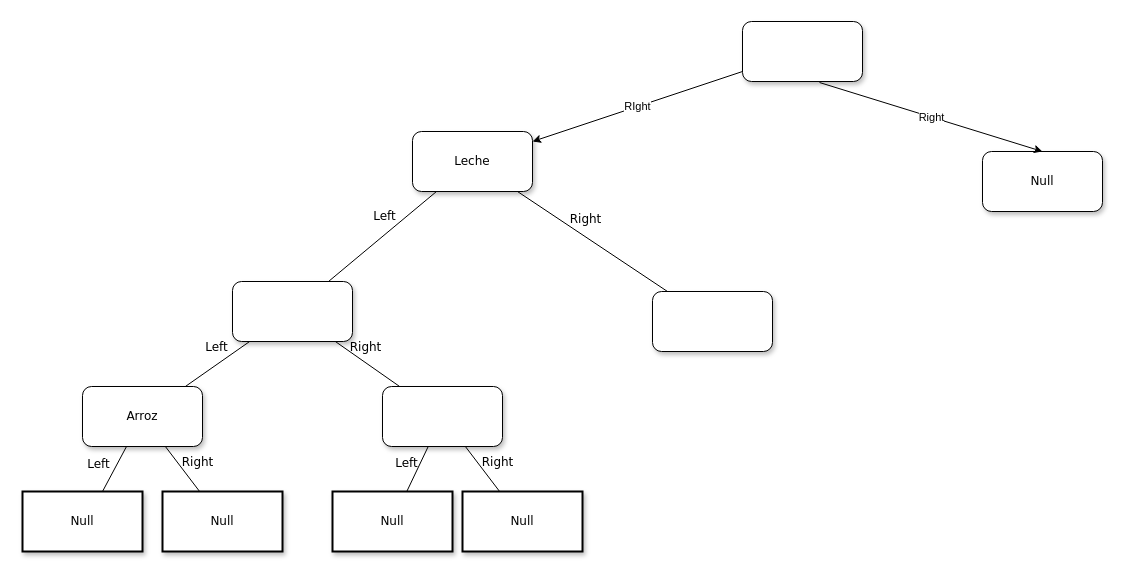
Image size: 1126x577. Some labels were removed from this diagram. The centre of each missing label's shape, as x and y in pixels:
Frutas: point (293, 312)
Jugo: point (443, 418)
Queso: point (713, 322)
Root: point (803, 52)
